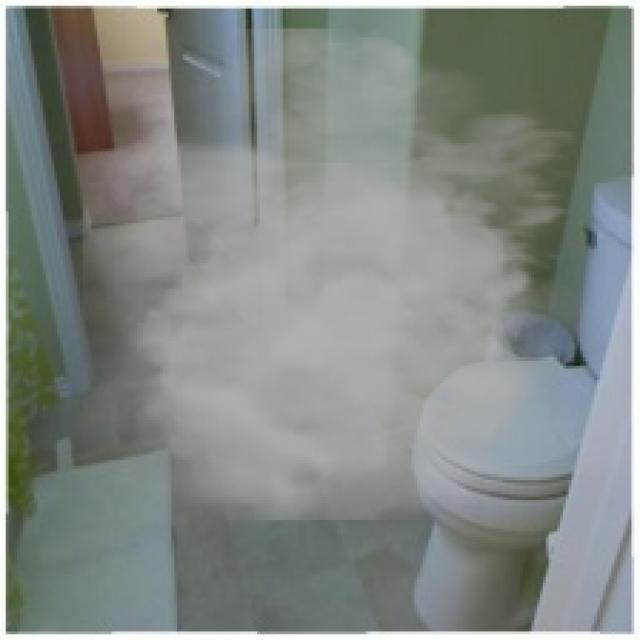smoke: (83, 29, 628, 552)
